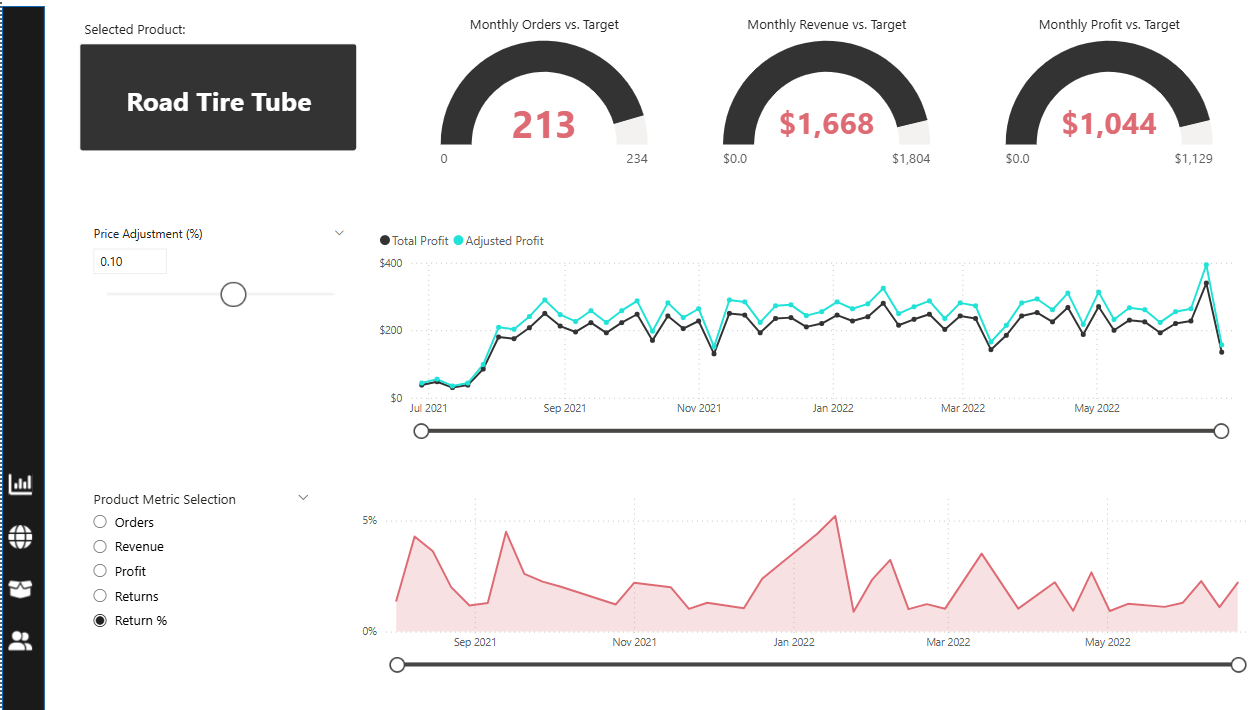

What the dashboard file says about the page in this screenshot:
{"tool":"powerbi","page":{"name":"Product Detail","canvas":[1280,720],"ordinal":2},"visuals":[{"type":"shape","box":[0,0,43.3,752.2],"z":0},{"type":"gauge","title":"Monthly Orders vs. Target","fields":{"MaxValue":["Measure Table.Order Target"],"Y":["Measure Table.Total Orders"]},"box":[439,9,220,168],"z":1000},{"type":"gauge","title":"Monthly Revenue vs. Target","fields":{"MaxValue":["Measure Table.Revenue Target"],"Y":["Measure Table.Total Revenue"]},"box":[725,9,220,168],"z":2000},{"type":"gauge","title":"Monthly Profit vs. Target","fields":{"MaxValue":["Measure Table.Profit Target"],"Y":["Measure Table.Total Profit"]},"box":[1011,9,220,168],"z":3000},{"type":"lineChart","title":"Profit Trending","fields":{"Category":["Calendar Lookup.Date Hierarchy.Start of Year","Calendar Lookup.Date Hierarchy.Start of Month","Calendar Lookup.Date Hierarchy.Start of Week","Calendar Lookup.Date Hierarchy.Date"],"Y":["Measure Table.Total Profit","Measure Table.Adjusted Profit"]},"box":[377.4,217.7,887.1,223.2],"z":4000},{"type":"areaChart","title":"Return Trending","fields":{"Category":["Calendar Lookup.Date Hierarchy.Start of Year","Calendar Lookup.Date Hierarchy.Start of Month","Calendar Lookup.Date Hierarchy.Start of Week","Calendar Lookup.Date Hierarchy.Date"],"Y":["Measure Table.Return Rate"]},"box":[359.1,484.9,921.1,192.9],"z":5000},{"type":"cardVisual","fields":{"Data":["Min(Product Lookup.ProductName)"]},"box":[60.6,20.2,316.8,144.2],"z":6000},{"type":"textbox","box":[79,9.2,122.1,27.6],"z":7000},{"type":"actionButton","box":[2.8,461.9,32.1,45],"z":8000},{"type":"actionButton","box":[2.8,567.9,32.1,45],"z":9000},{"type":"actionButton","box":[2.8,620.8,32.1,45],"z":10000},{"type":"actionButton","box":[2.8,514.9,32.1,45],"z":11000},{"type":"slicer","fields":{"Values":["Price Adjustment (%).Price Adjustment (%)"]},"box":[79.9,217.7,279.2,119.4],"z":11001},{"type":"slicer","fields":{"Values":["Product Metric Selection.Product Metric Selection"]},"box":[79.9,484.9,243.4,168.1],"z":11002}]}

Visuals, with their boxes on the page's 1280x720 design canvas (x1, y1, x2, y2). These are canvas units, not pixel positions in the 1257x710 screenshot, which may show the page scaled, cropped or inside an application window:
shape: box=[0, 0, 43, 752]
"Monthly Orders vs. Target" gauge: box=[439, 9, 659, 177]
"Monthly Revenue vs. Target" gauge: box=[725, 9, 945, 177]
"Monthly Profit vs. Target" gauge: box=[1011, 9, 1231, 177]
"Profit Trending" lineChart: box=[377, 218, 1264, 441]
"Return Trending" areaChart: box=[359, 485, 1280, 678]
cardVisual - Min(Product Lookup.ProductName): box=[61, 20, 377, 164]
textbox: box=[79, 9, 201, 37]
actionButton: box=[3, 462, 35, 507]
actionButton: box=[3, 568, 35, 613]
actionButton: box=[3, 621, 35, 666]
actionButton: box=[3, 515, 35, 560]
slicer - Price Adjustment (%).Price Adjustment (%): box=[80, 218, 359, 337]
slicer - Product Metric Selection.Product Metric Selection: box=[80, 485, 323, 653]
